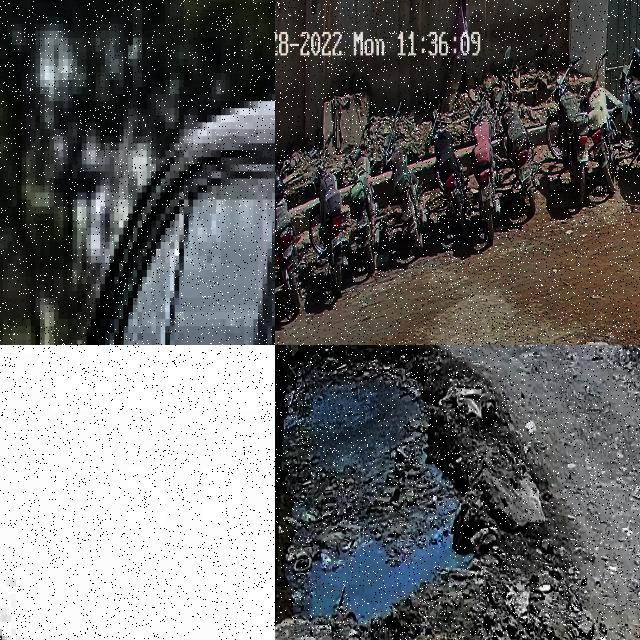bike: (0, 446, 275, 640), (494, 46, 540, 213), (545, 54, 591, 206), (382, 101, 428, 253), (308, 128, 348, 292), (428, 87, 471, 239), (342, 117, 381, 272), (578, 51, 619, 192), (468, 83, 501, 241), (275, 152, 307, 311), (610, 45, 640, 190)
car: (0, 0, 275, 345)
